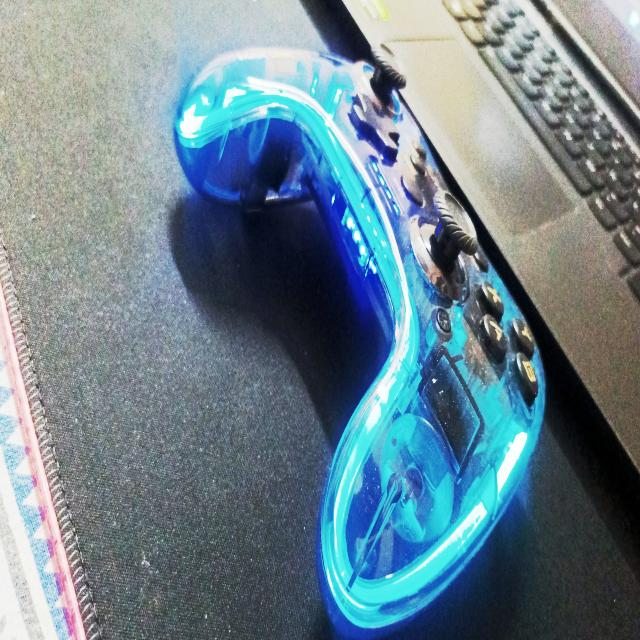gamepad: (172, 44, 548, 635)
